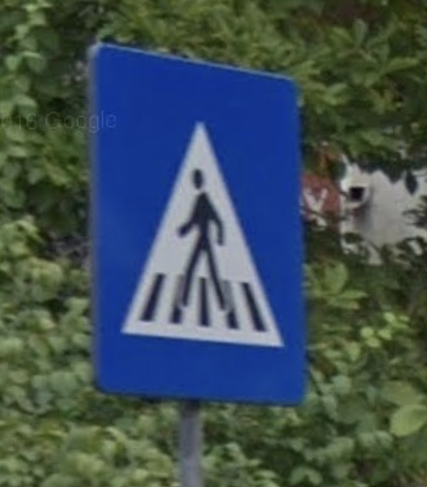trecere_pietoni: (89, 38, 309, 412)
